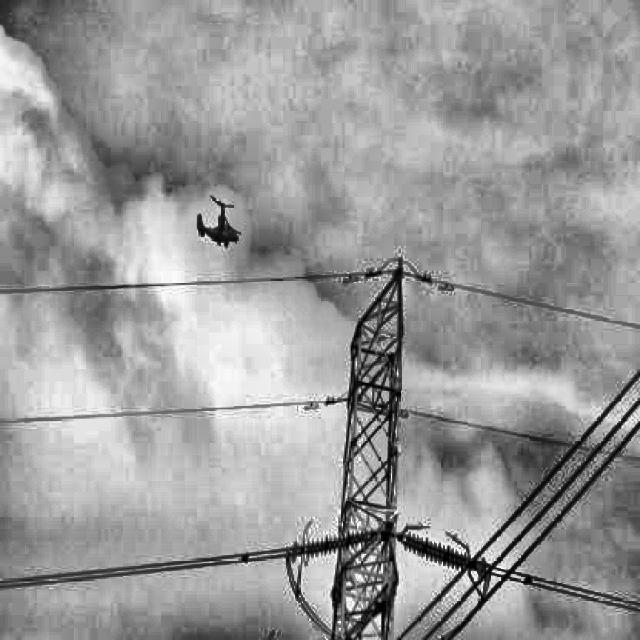V22: (196, 194, 242, 248)
